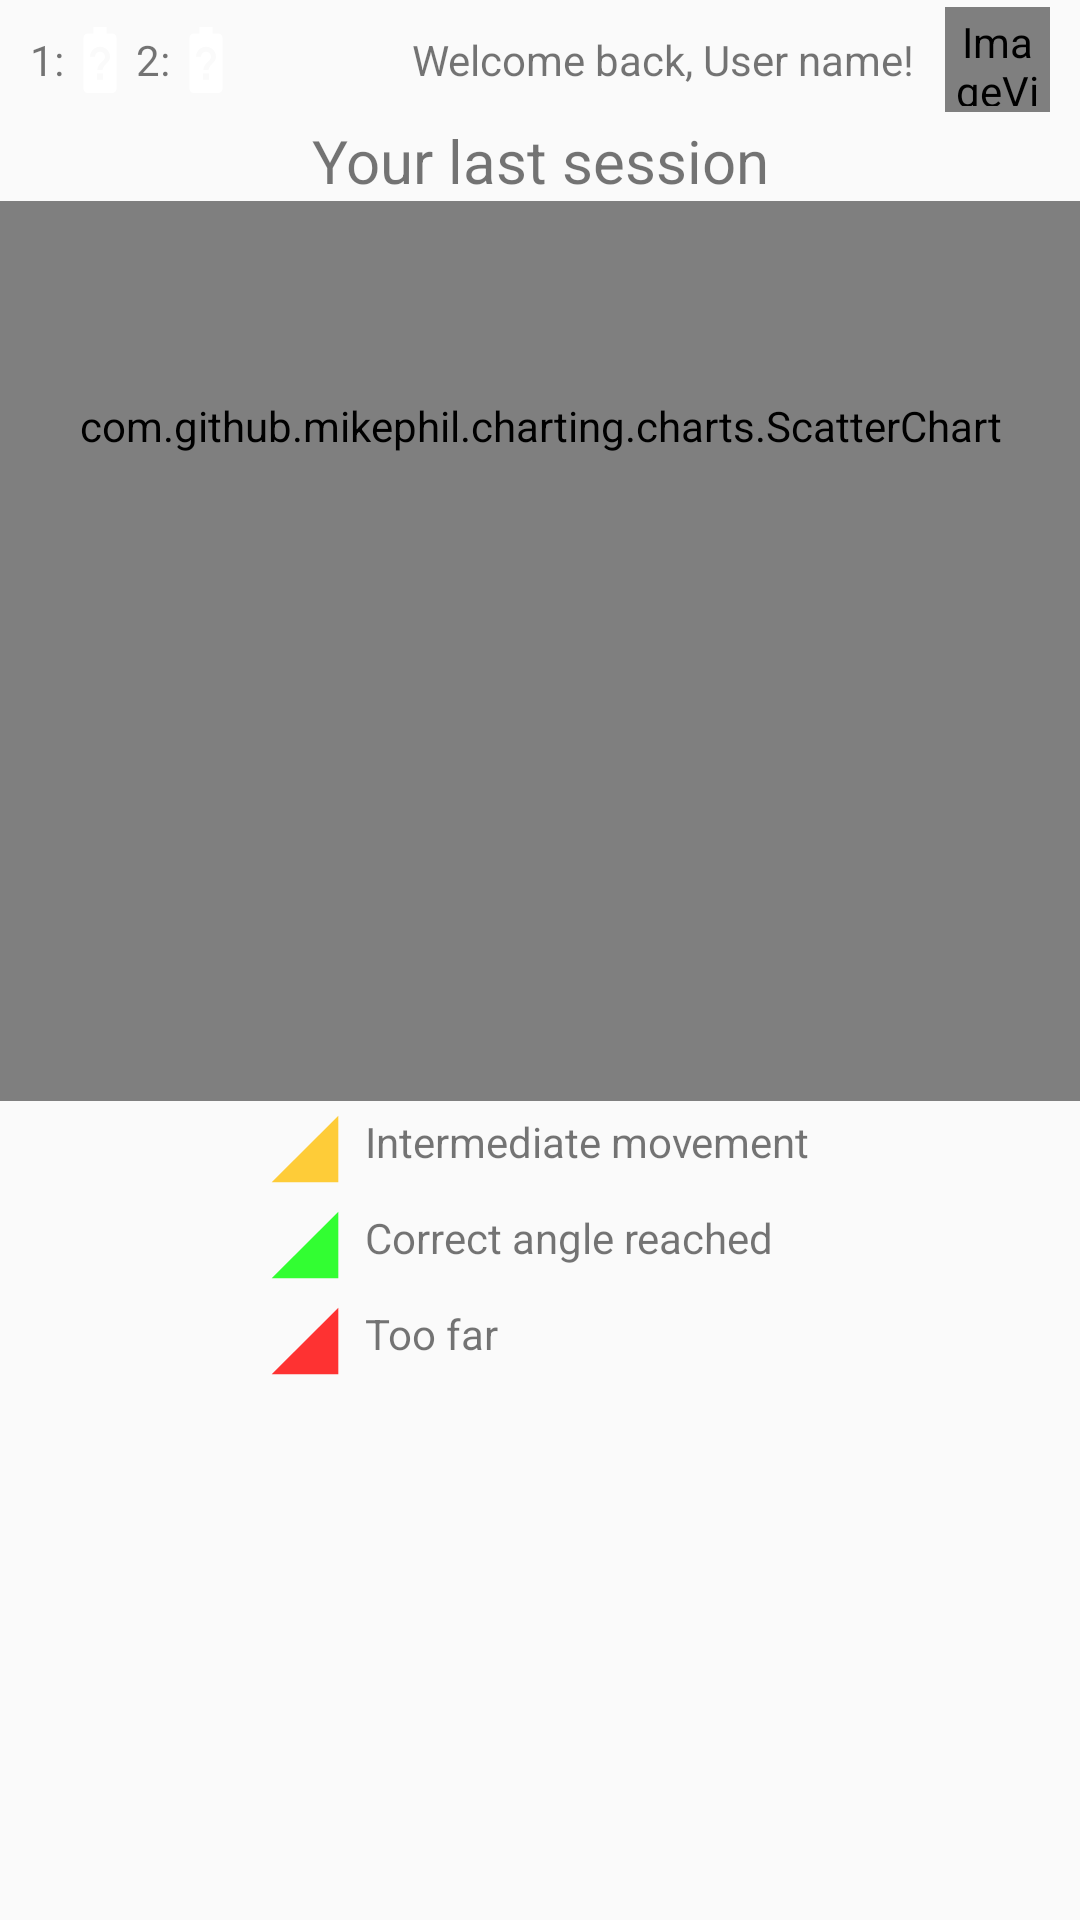

Where to tap for icons on this 1080×1920 app screen, as point (x, y):
triangle: point (305, 1149), point (305, 1245), point (305, 1341)
